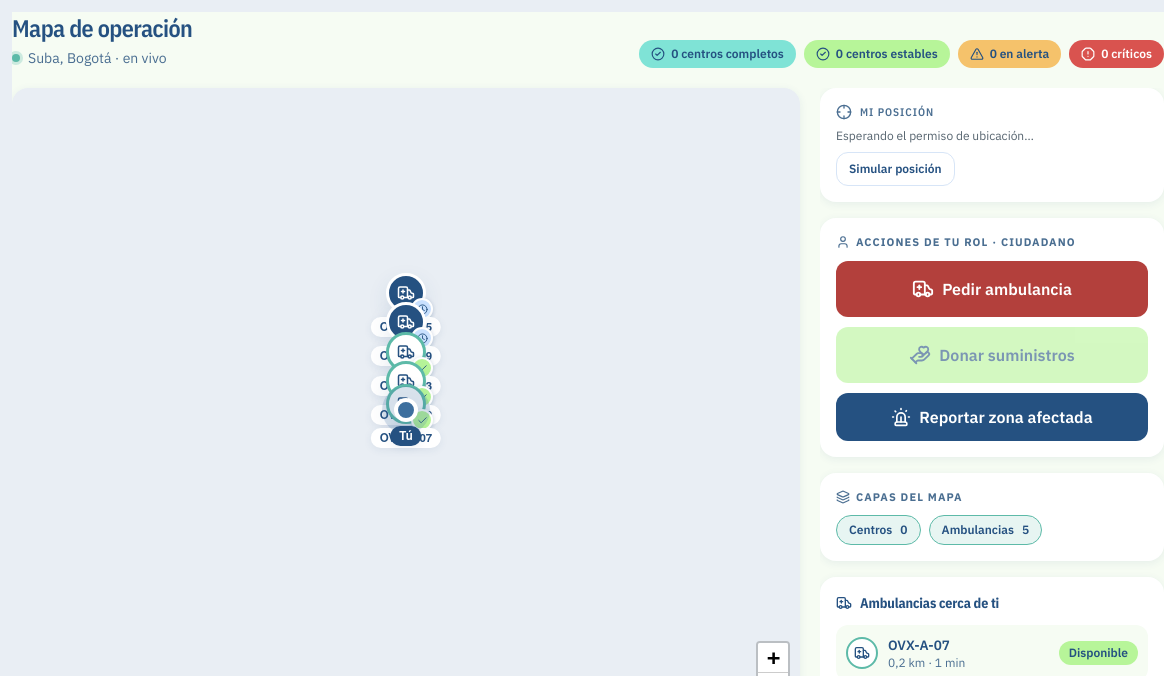
Test: CitizenMapPage › asks nothing and shows the honest reason without a pickup point
Step 1. Click the button "Pedir ambulancia" → (992, 288), box [836,260,1148,316]
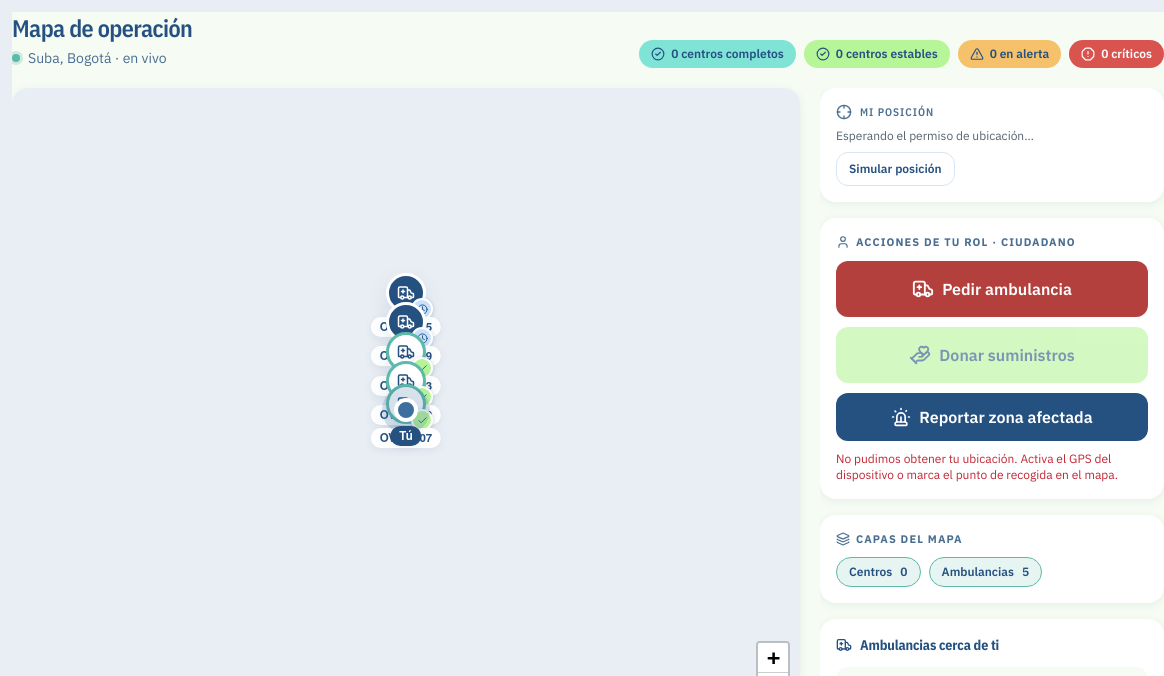
Check: the heading "Mapa de operación" is shown, box [12,12,192,44]
Check: the text "No pudimos obtener tu ubicación. Activa el GPS del dispositivo o marca el punto de recogida en el mapa." is shown, box [836,450,1118,482]
